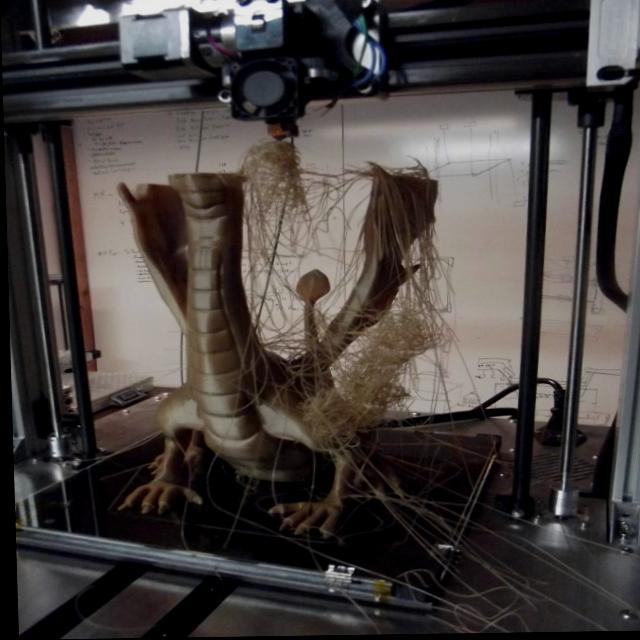spaghetti: (71, 127, 640, 639)
